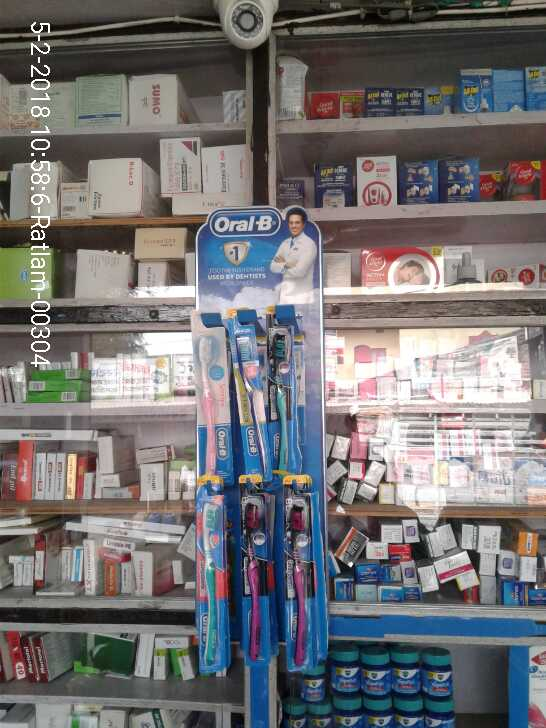pharmacy: (278, 486, 323, 662), (186, 498, 226, 667), (194, 319, 232, 479), (265, 314, 301, 473), (242, 492, 273, 664), (236, 309, 258, 475), (351, 643, 389, 704), (419, 647, 458, 703), (327, 643, 359, 698), (388, 647, 420, 702)
